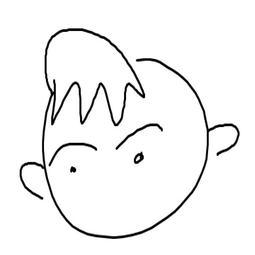ear: (198, 122, 245, 159), (16, 156, 49, 203)
frowning_eyebrow: (114, 122, 166, 152)
nose: (47, 137, 98, 167)
small_eye: (64, 160, 80, 175), (132, 150, 147, 164)
